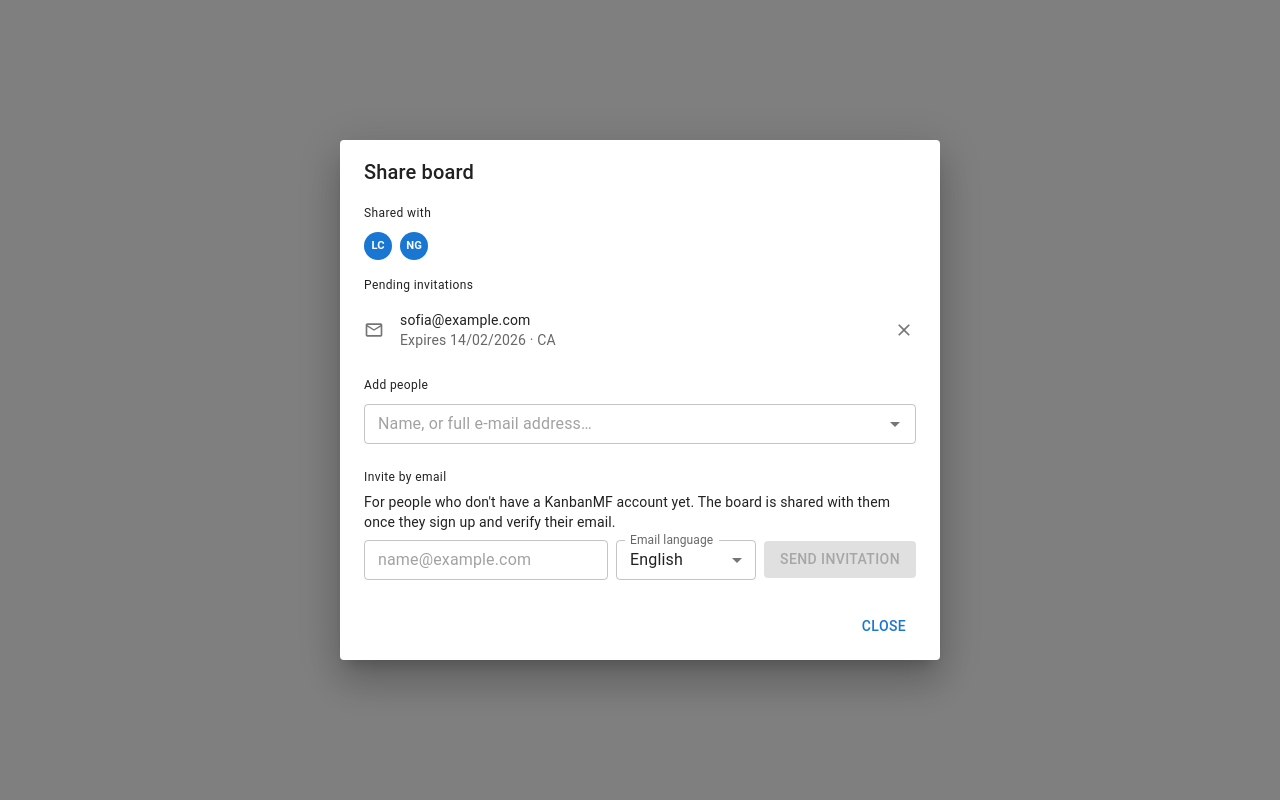
Test: ShareBoardDialog › the people it is shared with › still warns that their cards will be archived when the count can't be found out
The image size is (1280, 800).
Step 1. Click the button with aria-label "Remove Liam Chen from this board" → (378, 246), box [364,232,392,260]
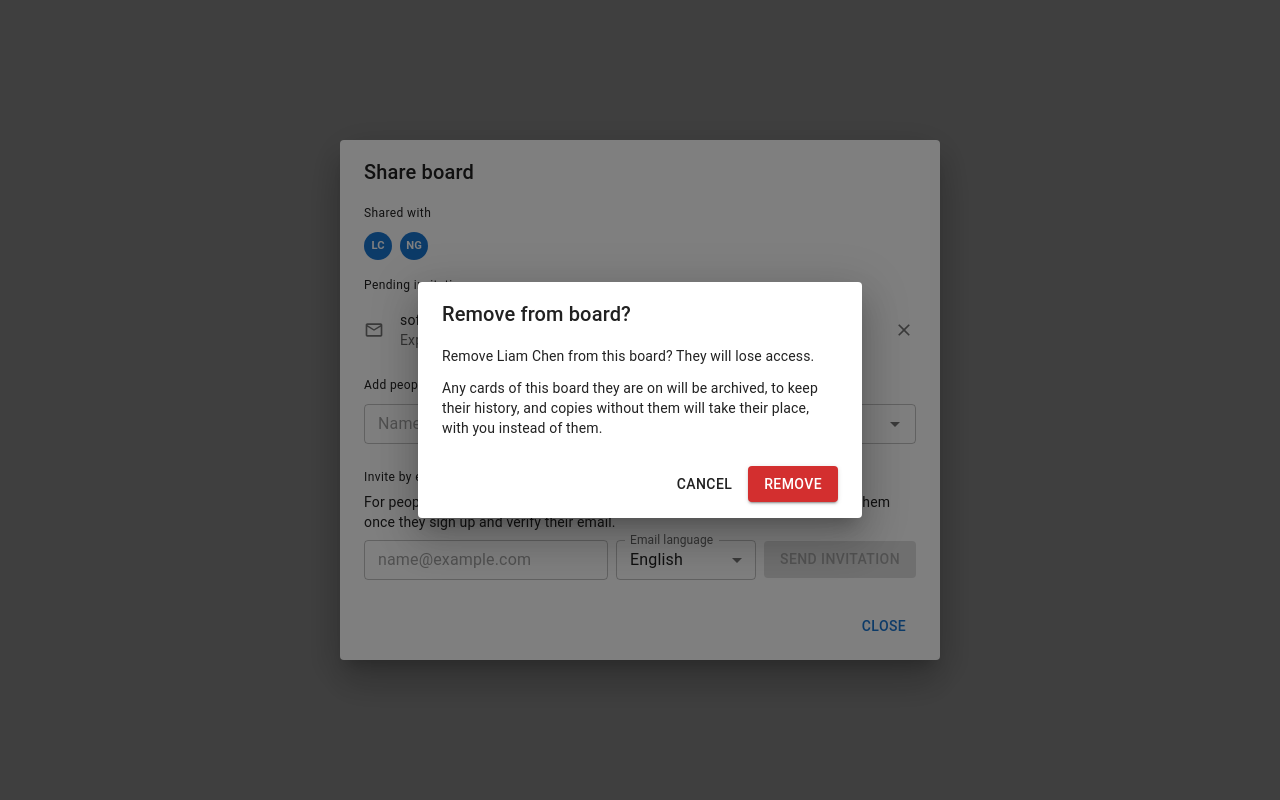
Expected: the button "Remove" is enabled, [748,466,838,502]
Expected: the dialog "Remove from board?" shows "Any cards of this board they are on will be archived, to keep their history, and copies without them will take their place, with you instead of them.", [442,380,818,436]
